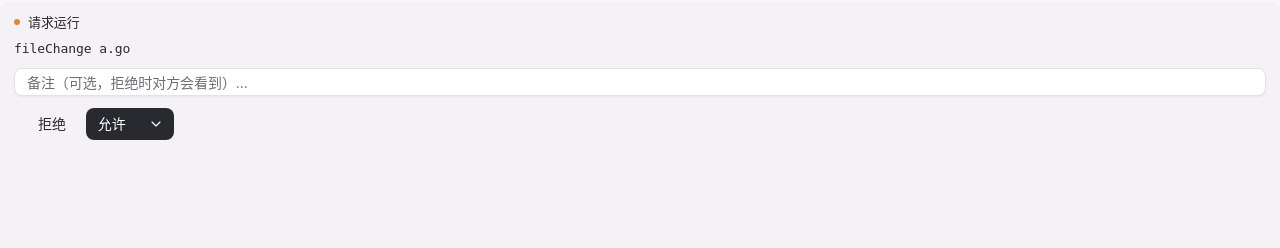
Test: ApprovalCard › offers only the rest of the turn when the runtime offered nothing to keep
Click the button named "允许的范围" at [156, 124], box [138, 108, 174, 140]
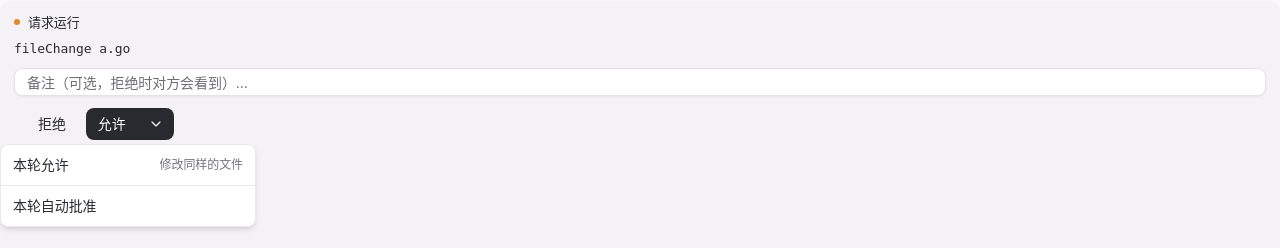
Check: the menu item "本轮允许 修改同样的文件" is shown, box [13, 156, 243, 173]
